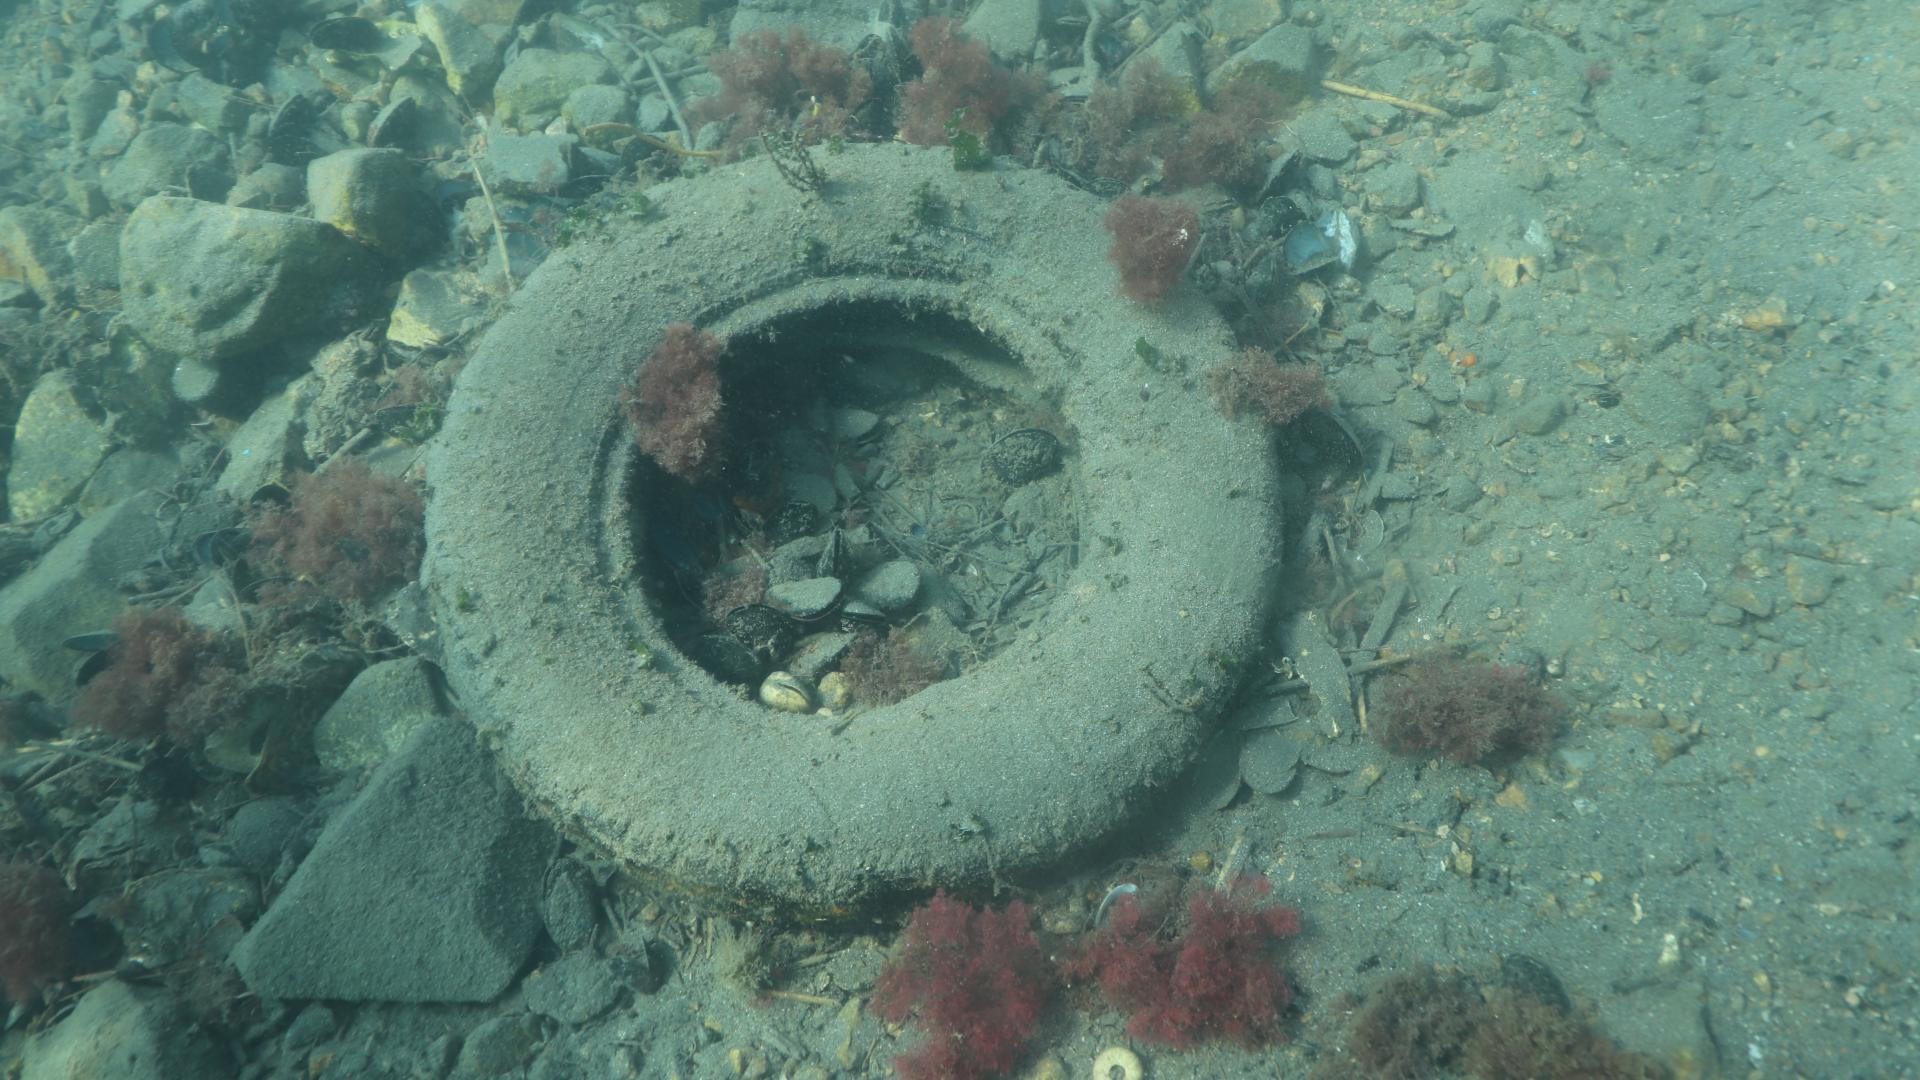tire: (421, 136, 1288, 934)
